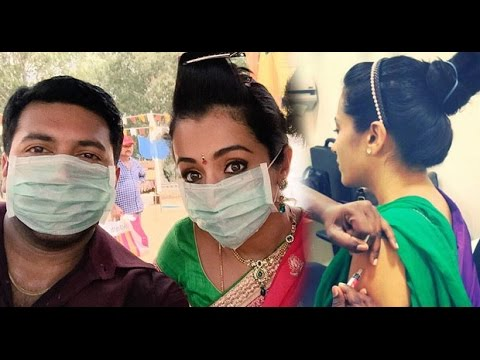mask: (8, 156, 115, 235), (182, 176, 277, 249)
